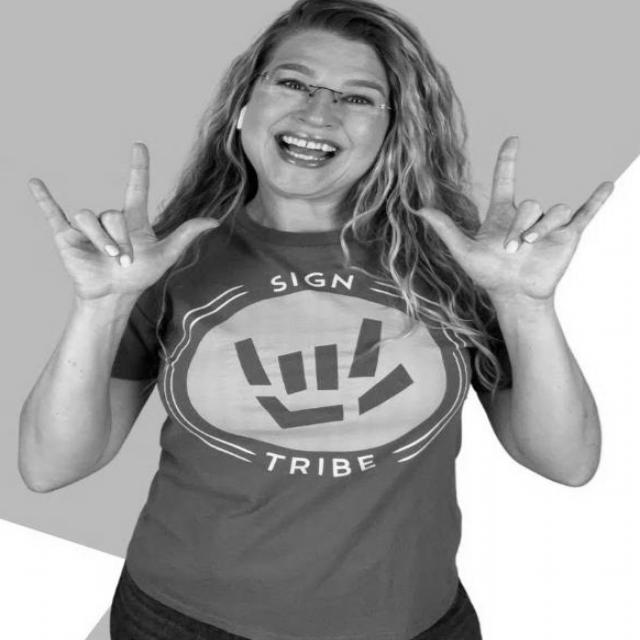i love you: (407, 129, 618, 319), (20, 136, 226, 321)
